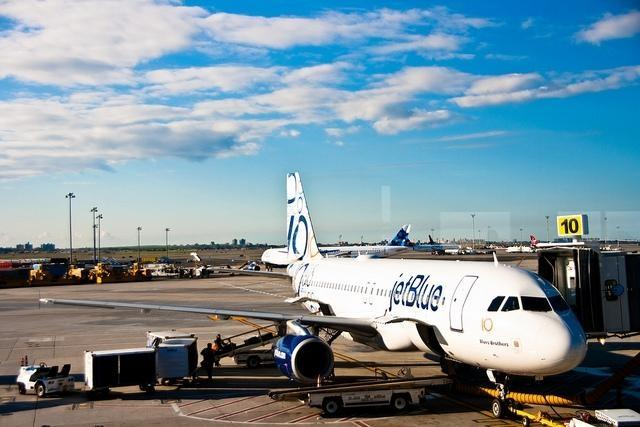truck: (84, 347, 158, 390)
